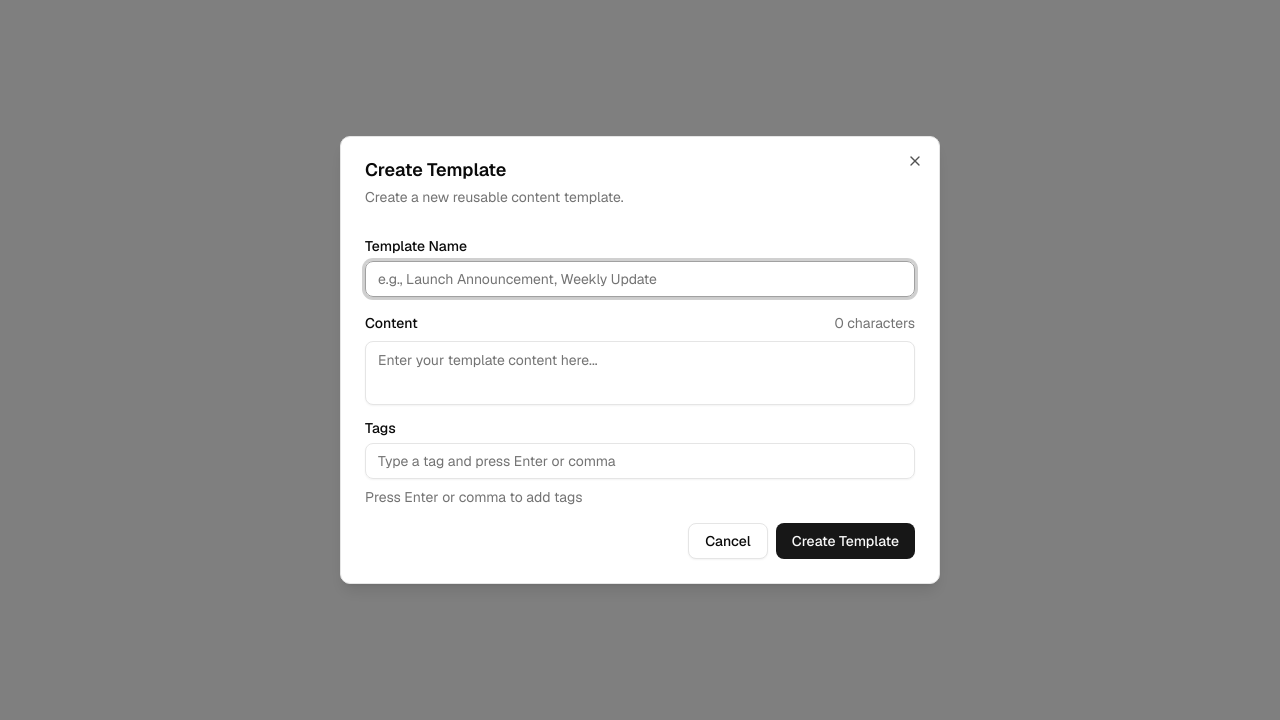
Test case: TemplateFormModal Component › Create Mode › should update character count as user types
Type "Test content" into the text box labelled "Content" at (640, 373), box [365,341,915,405]
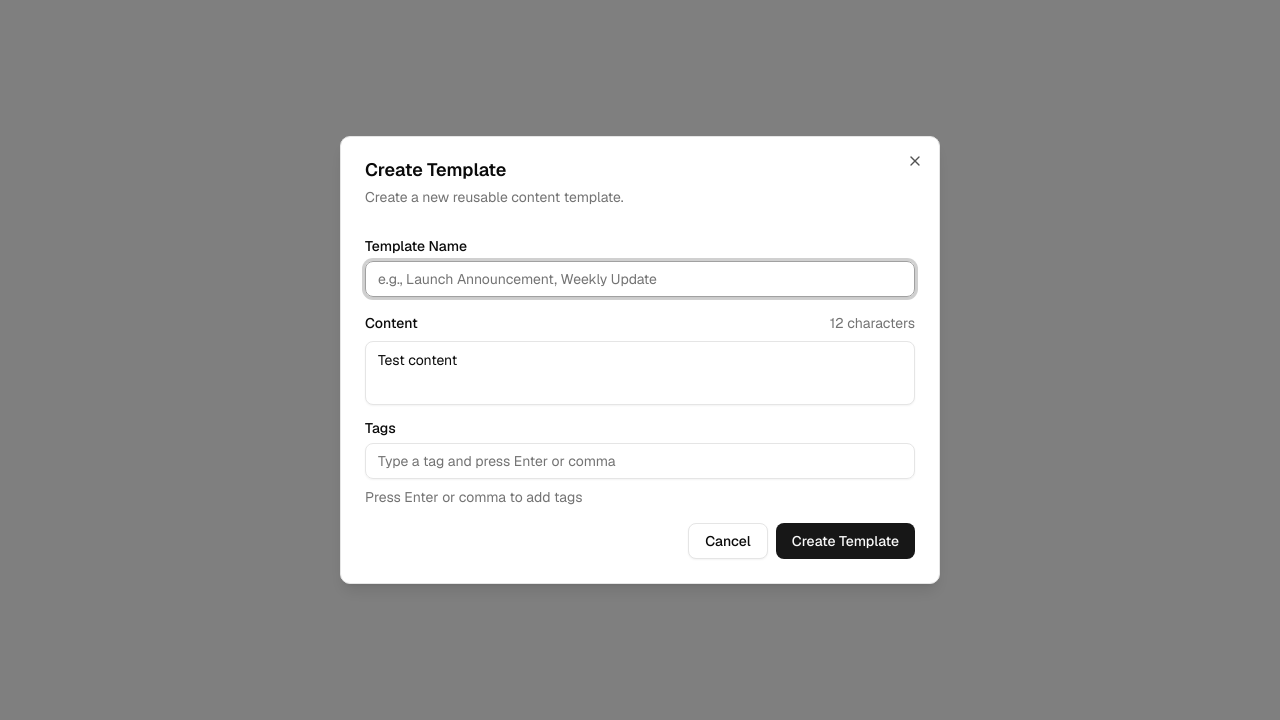
Result: the text "12 characters" is shown at [830,313,915,333]
